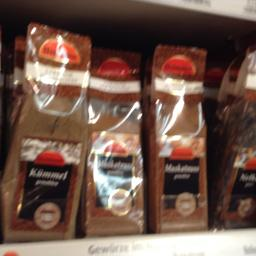spices: (0, 20, 90, 238), (84, 48, 148, 235), (148, 41, 210, 231)
